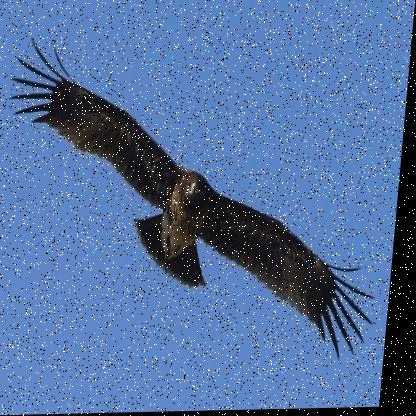Burung: (0, 32, 398, 373)
